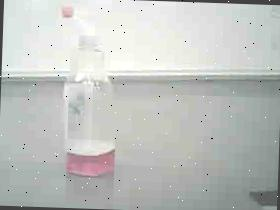hazard: (49, 0, 132, 185)
